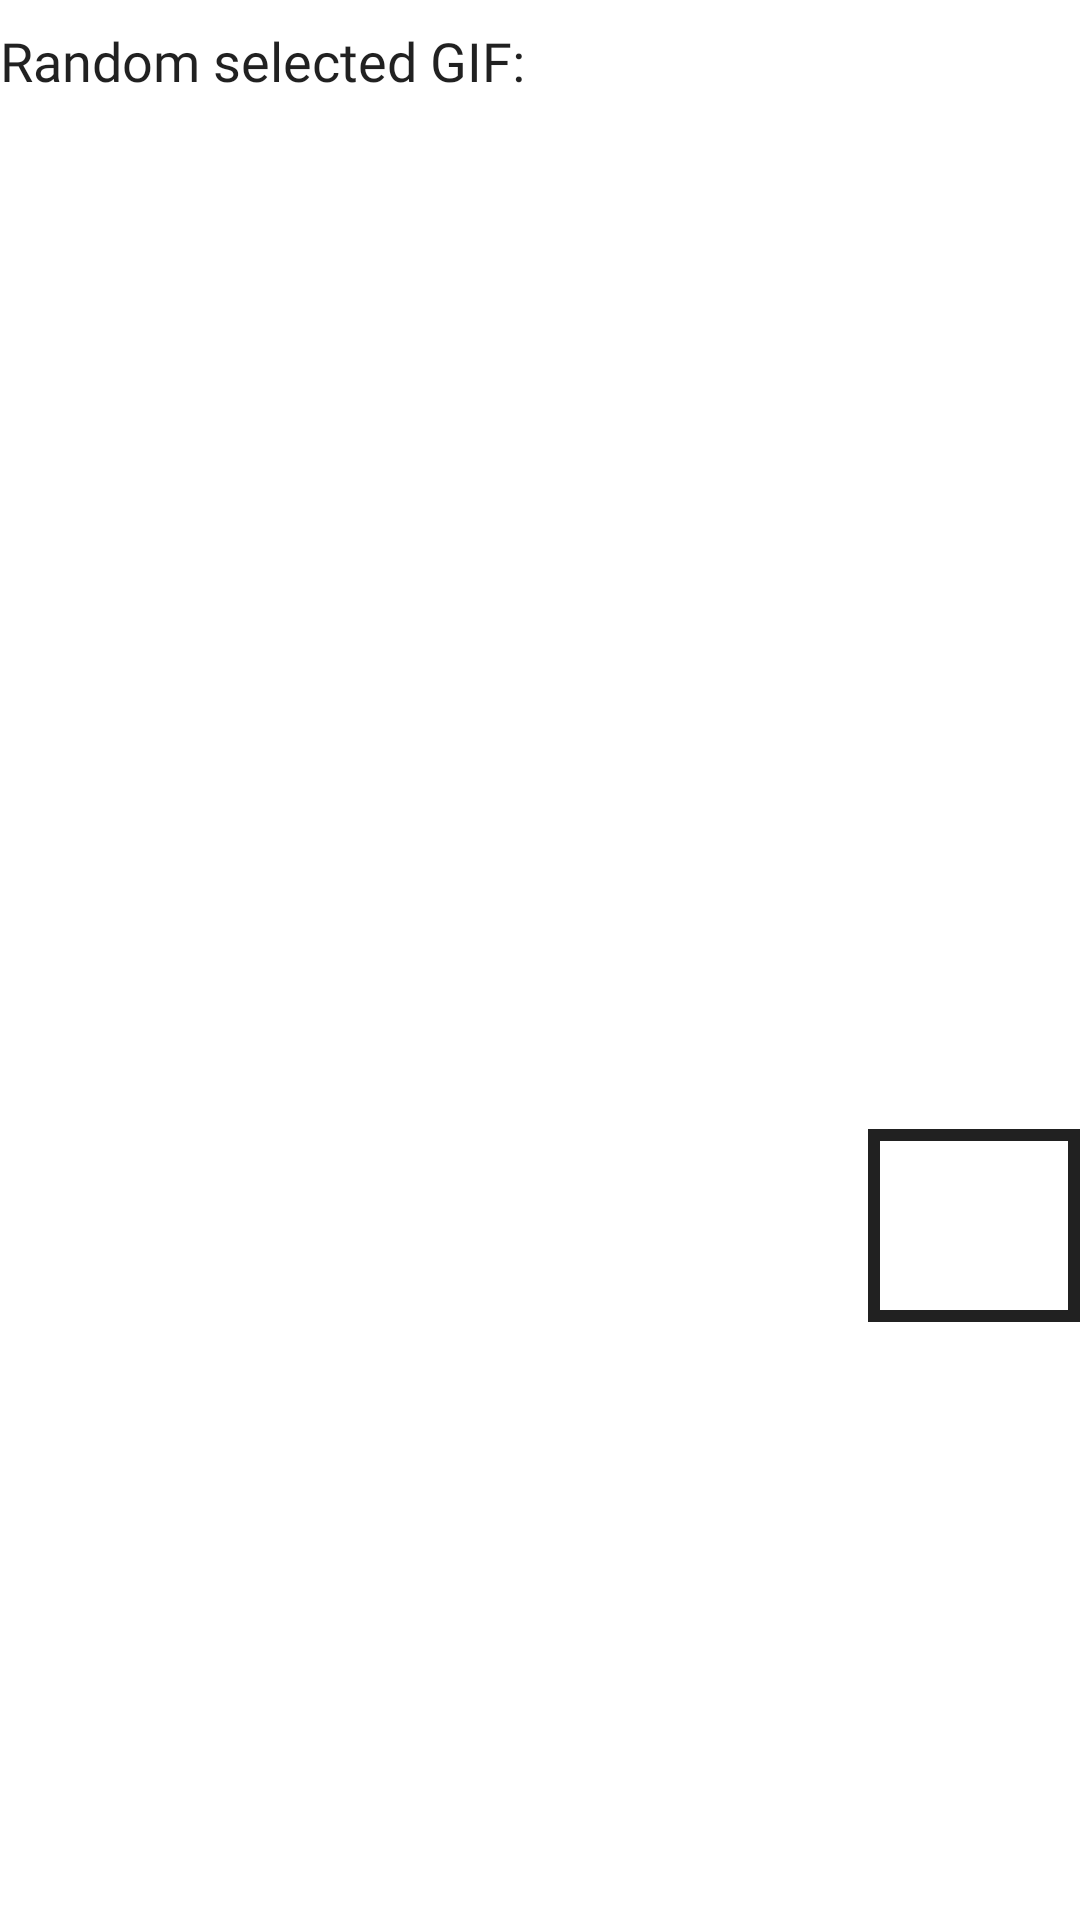

Point at icon controls on the screen. Image size 1080px x 1920px, points as point (x, y).
square: point (974, 1225)
